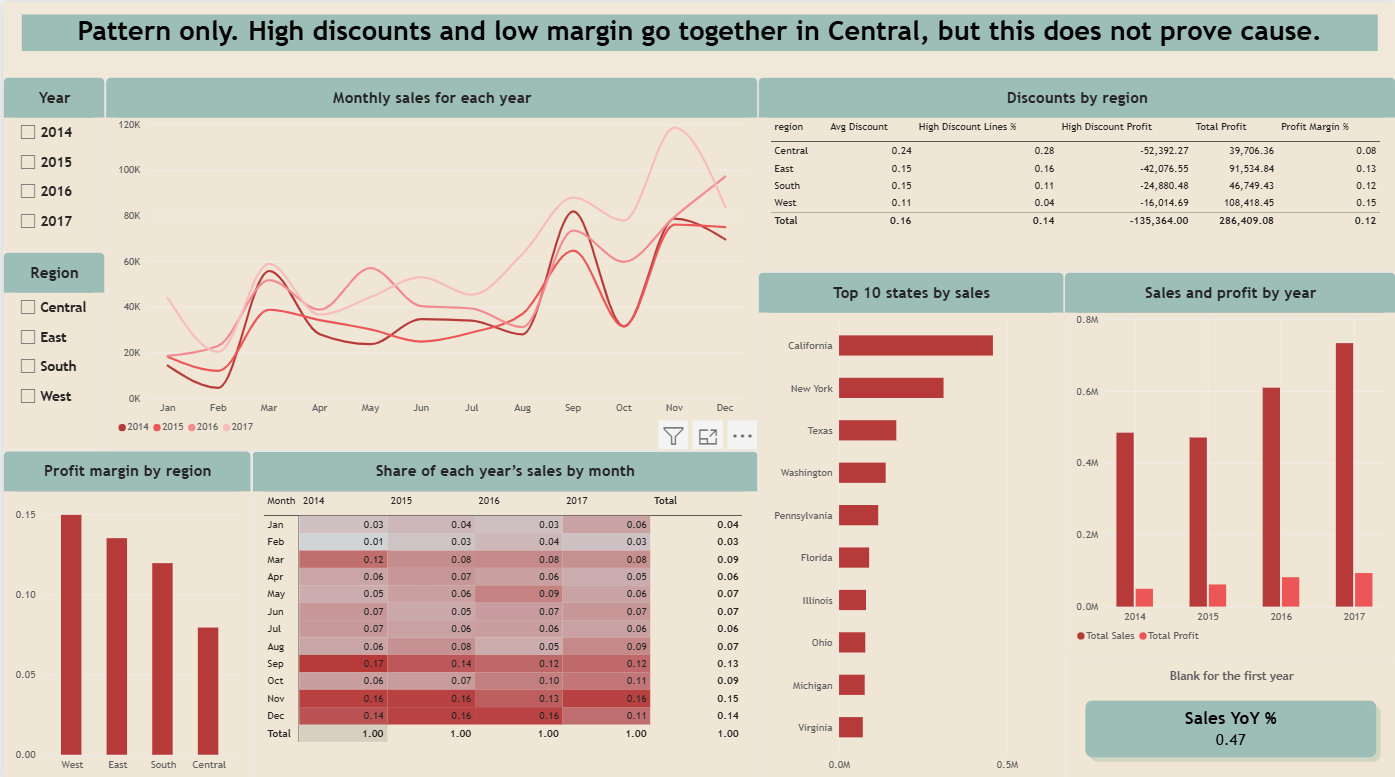

What the dashboard file says about the page in this screenshot:
{"tool":"powerbi","page":{"name":"2 Trends & Regions","canvas":[1920,1080],"ordinal":2},"visuals":[{"type":"slicer","title":"Year","fields":{"Values":["Calendar.Year"]},"box":[0,103.7,140.7,240.7],"z":0},{"type":"clusteredColumnChart","title":"Sales and profit by year","fields":{"Category":["Calendar.Year"],"Y":["_Measures.Total Sales","_Measures.Total Profit"]},"box":[1463,372.2,457.4,533.3],"z":1000},{"type":"cardVisual","fields":{"Data":["_Measures.Sales YoY %"]},"box":[1466.7,905.6,453.7,174.1],"z":2000},{"type":"lineChart","title":"Monthly sales for each year","fields":{"Category":["Calendar.Month"],"Series":["Calendar.Year"],"Y":["_Measures.Total Sales"]},"box":[140.7,103.7,900,514.8],"z":3000},{"type":"pivotTable","title":"Share of each year’s sales by month","fields":{"Columns":["Calendar.Year"],"Rows":["Calendar.Month"],"Values":["_Measures.Sales % of Year"]},"box":[342.6,618.5,698.1,461.1],"z":4000},{"type":"columnChart","title":"Profit margin by region","fields":{"Category":["Sales.region"],"Y":["_Measures.Profit Margin %"]},"box":[0,618.5,342.6,461.1],"z":5000},{"type":"tableEx","title":"Discounts by region","fields":{"Values":["Sales.region","_Measures.Avg Discount","_Measures.High Discount Lines %","_Measures.High Discount Profit","_Measures.Total Profit","_Measures.Profit Margin %"]},"box":[1040.7,103.7,879.6,268.5],"z":6000},{"type":"barChart","title":"Top 10 states by sales","fields":{"Category":["Sales.state"],"Y":["_Measures.Total Sales"]},"box":[1040.7,372.2,422.2,707.4],"z":7000},{"type":"slicer","title":"Region","fields":{"Values":["Sales.region"]},"box":[0,344.4,140.7,274.1],"z":8000},{"type":"textbox","box":[25.9,16.7,1870.4,50],"z":9000}]}

Visuals, with their boxes in screenshot pixels (x1, y1, x2, y2), scaled from the page's 1920x1080 canvas onto the 1395x777 screenshot:
"Year" slicer: 0/75/102/248
"Sales and profit by year" clusteredColumnChart: 1063/268/1394/651
cardVisual - _Measures.Sales YoY %: 1066/652/1394/776
"Monthly sales for each year" lineChart: 102/75/756/445
"Share of each year’s sales by month" pivotTable: 249/445/756/776
"Profit margin by region" columnChart: 0/445/249/776
"Discounts by region" tableEx: 756/75/1394/268
"Top 10 states by sales" barChart: 756/268/1063/776
"Region" slicer: 0/248/102/445
textbox: 19/12/1378/48
